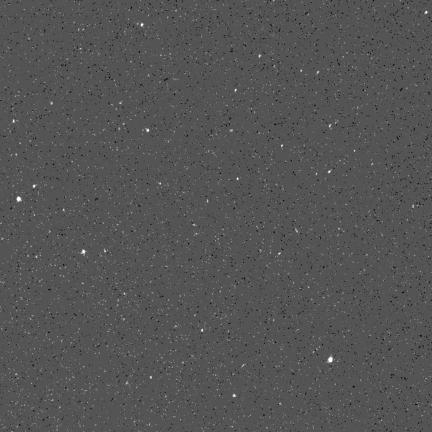blob: (328, 357, 333, 363), (17, 197, 21, 202), (81, 250, 85, 254), (237, 177, 240, 181), (146, 128, 149, 132), (201, 329, 204, 333), (233, 394, 236, 397), (33, 185, 36, 188), (328, 170, 331, 173)
